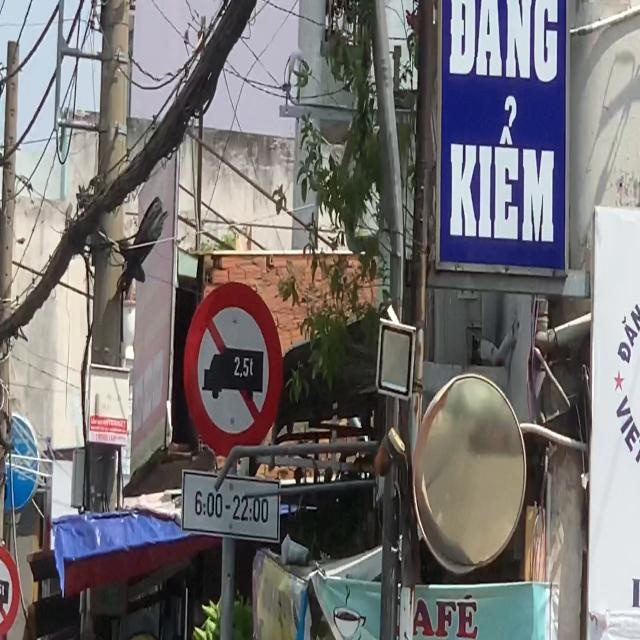bien_cam: (184, 280, 282, 458)
